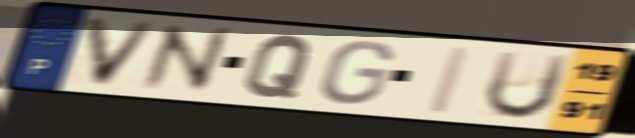G: (317, 39, 398, 107)
I: (421, 43, 478, 117)
N: (137, 21, 234, 94)
Q: (241, 33, 317, 101)
U: (481, 48, 575, 122)
V: (82, 14, 163, 90)
